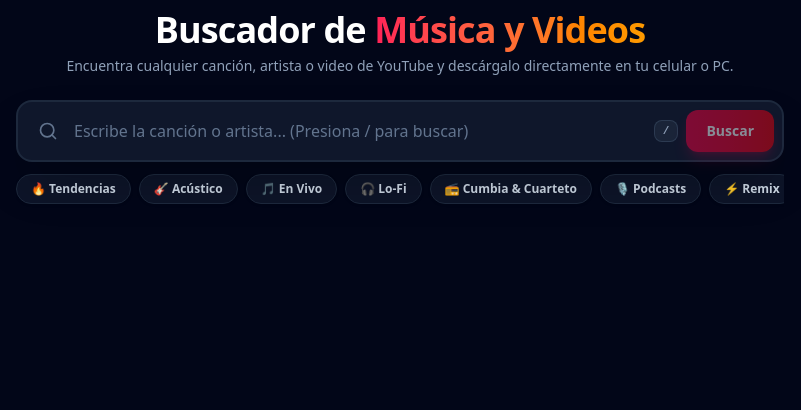
it: SearchHistory & Touch Theme Chips Tests › permite borrar todo el historial con el botón "Borrar todo el historial"
Focus the field with placeholder "Escribe la canción o artista... (Presiona / para buscar)" at x=360, y=131, box left=66, top=111, right=654, bottom=151
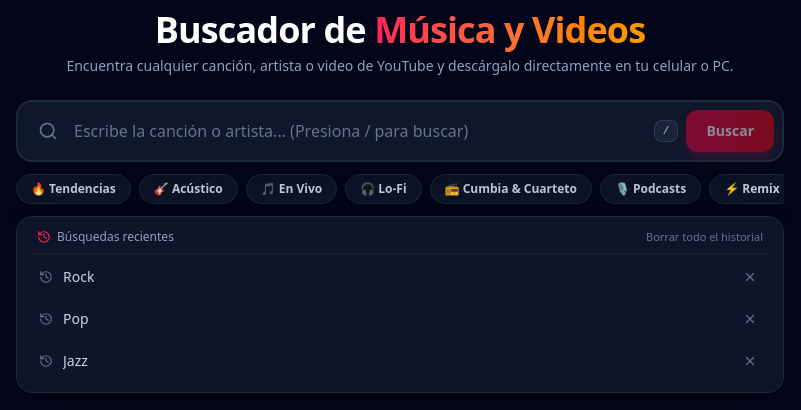
Click the button "Borrar todo el historial".
click(704, 237)  # box left=646, top=230, right=763, bottom=244
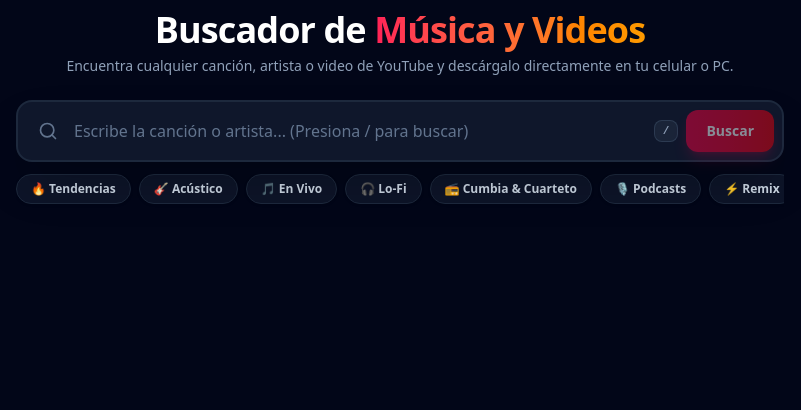
Now the text "Rock" is gone
Now the element "Búsquedas recientes" is gone
